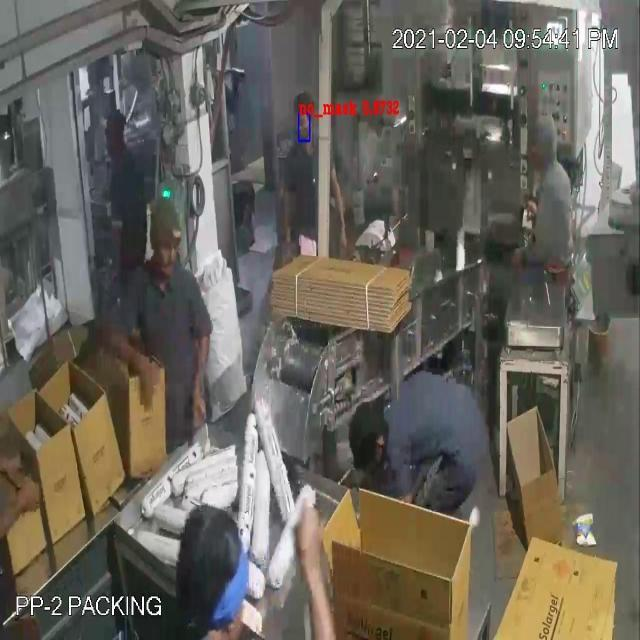No_Gloves: (18, 95, 340, 570)
